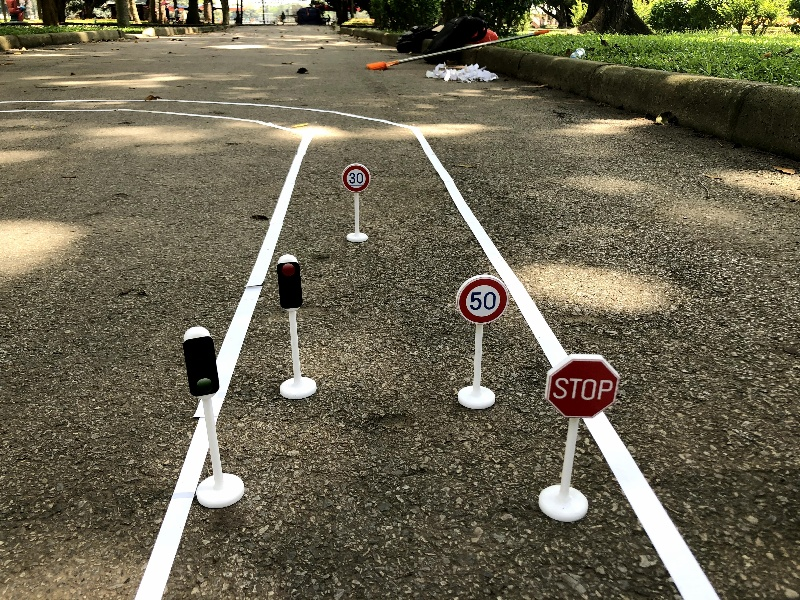Green: (181, 325, 246, 509)
Limit 30: (341, 162, 372, 243)
Limit 50: (455, 273, 510, 411)
Red: (275, 251, 317, 401)
Stop: (537, 353, 621, 524)
